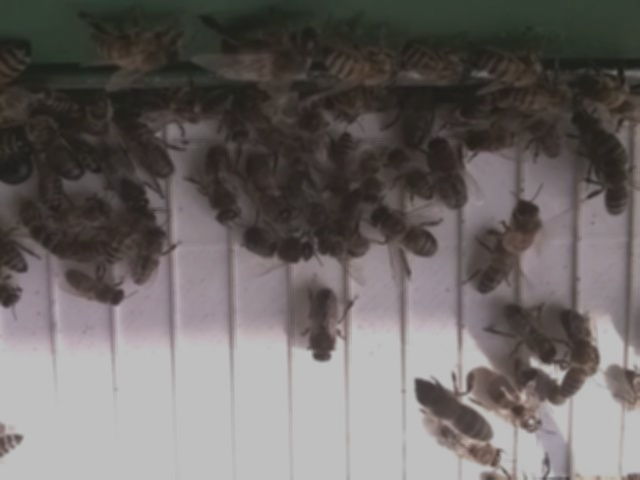Drone: (114, 113, 176, 182), (367, 204, 443, 260), (244, 149, 296, 228), (98, 140, 152, 216), (485, 371, 545, 437), (502, 303, 559, 369), (425, 137, 472, 213), (201, 141, 240, 227), (306, 287, 342, 368), (242, 226, 314, 266)
Worker: (383, 147, 434, 204), (474, 238, 518, 298), (556, 344, 597, 405), (63, 272, 128, 310), (463, 120, 526, 159), (132, 225, 170, 289), (330, 128, 358, 198), (602, 163, 633, 220)
